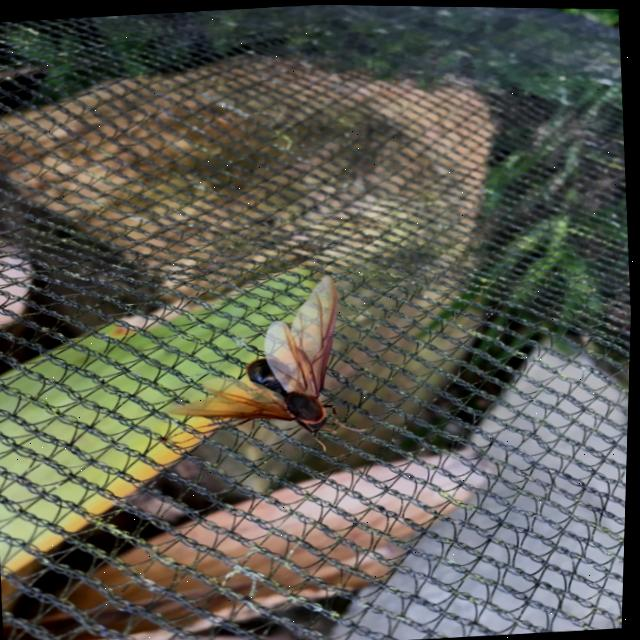Alive-Female-Alate: (157, 268, 374, 463)
